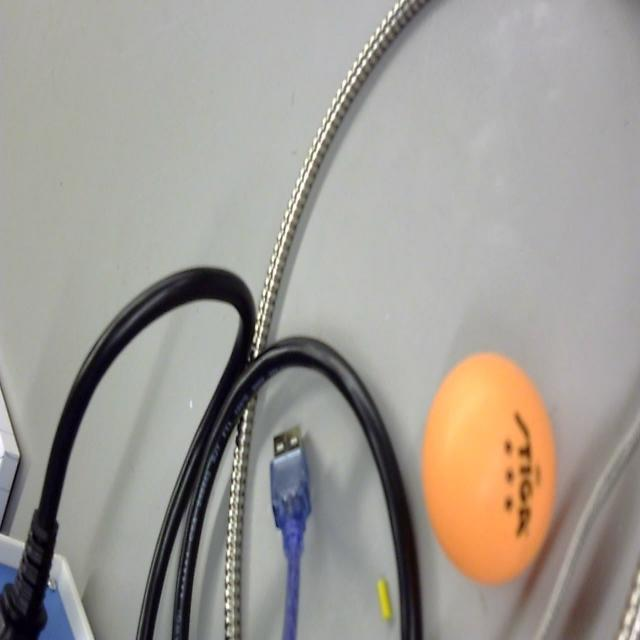ball: (420, 347, 559, 588)
